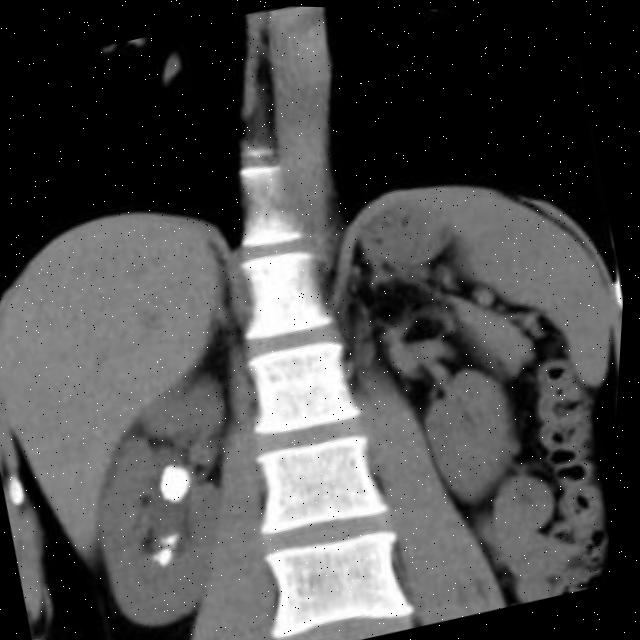Tas_Var: (157, 453, 208, 507), (162, 543, 182, 569), (174, 533, 184, 545), (158, 551, 166, 560), (178, 542, 186, 549), (179, 549, 187, 556)
